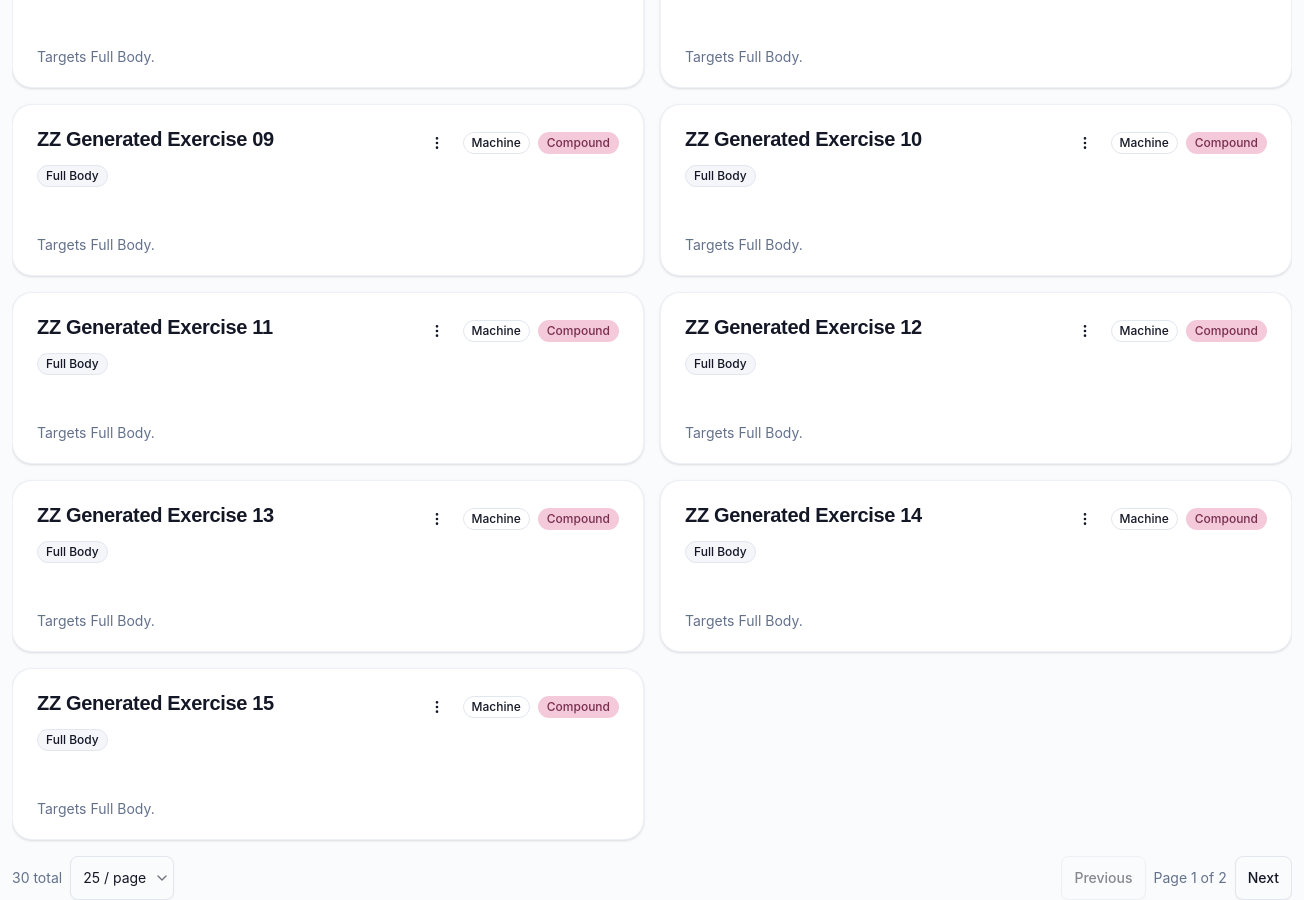
Test: ExerciseLibrary › shows paginated results and updates the page query param
(page scrolled)
Expected: the text "Page 1 of 2" is shown, [1154,868,1227,888]
Click the button "Next" at (1263, 878), box [1235,856,1292,899]
(page scrolled)
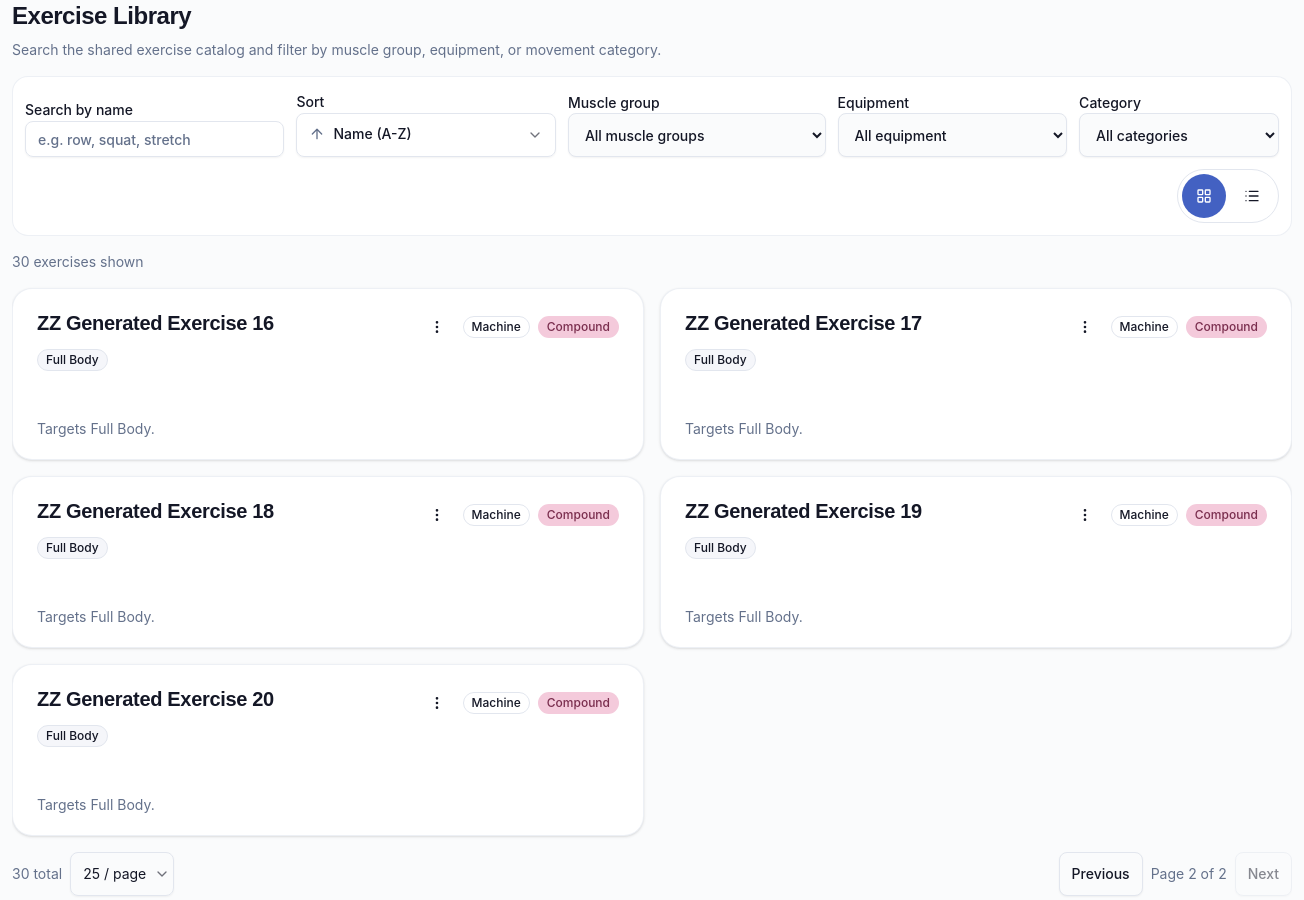
Expected: the text "Page 2 of 2" is shown, [1151,864,1227,884]
Expected: the heading "ZZ Generated Exercise 20" is shown, [37,685,274,713]
